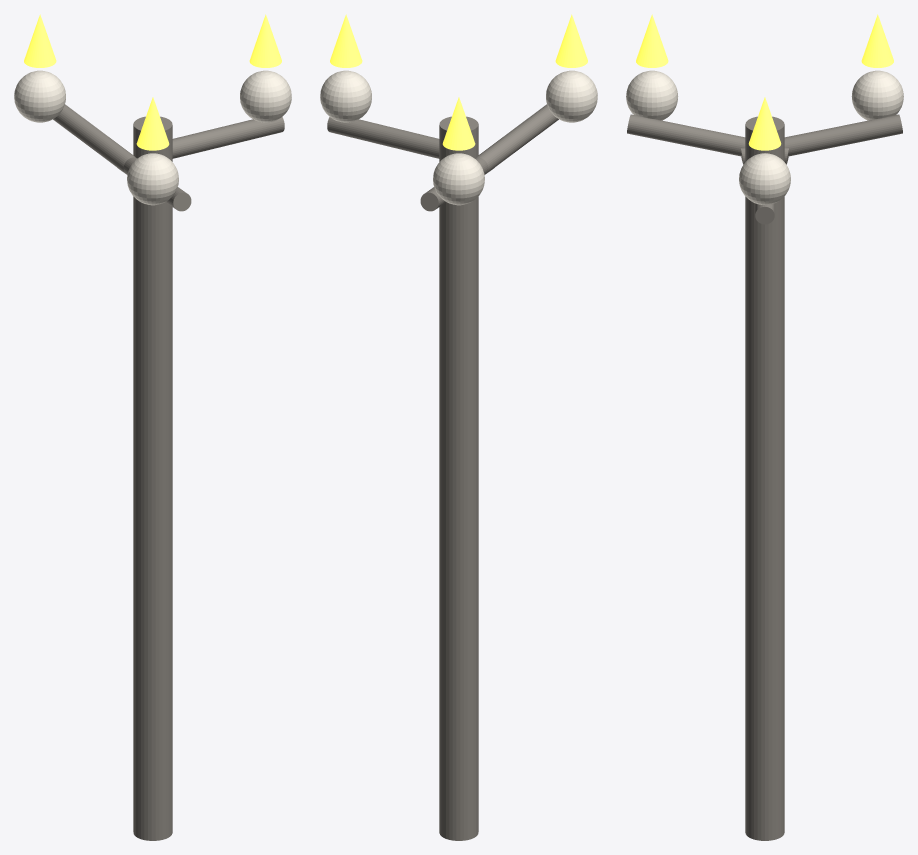
The model's file is candelabra.glb.
3 renders of one model, left to right at view 1: azimuth 30°, elevation 25°; view 2: azimuth 150°, elevation 25°; view 3: azimuth 270°, elevation 25°, orthographic.
Parts seen in each view (by area): view 1: Cylinder, Sphere, Sphere.001, Sphere.002, Cylinder.001, Cylinder.002, Cone.002, Cone, Cone.001; view 2: Cylinder, Sphere, Sphere.002, Sphere.001, Cylinder.001, Cylinder.003, Cone.001, Cone, Cone.002; view 3: Cylinder, Cylinder.002, Cylinder.003, Sphere, Sphere.001, Sphere.002, Cone, Cone.001, Cone.002.
Part boxes in pixels (x1=…): Cylinder: x1=133, y1=116, x2=172, y2=840; Sphere: x1=240, y1=70, x2=291, y2=122; Sphere.001: x1=14, y1=70, x2=65, y2=122; Sphere.002: x1=127, y1=153, x2=178, y2=205; Cylinder.001: x1=172, y1=117, x2=284, y2=158; Cylinder.002: x1=53, y1=104, x2=135, y2=172; Cone.002: x1=136, y1=97, x2=169, y2=150; Cone: x1=249, y1=14, x2=281, y2=67; Cone.001: x1=24, y1=14, x2=56, y2=67; Cylinder: x1=439, y1=116, x2=478, y2=840; Sphere: x1=320, y1=70, x2=371, y2=122; Sphere.002: x1=546, y1=70, x2=597, y2=122; Sphere.001: x1=433, y1=153, x2=484, y2=205; Cylinder.001: x1=327, y1=117, x2=439, y2=158; Cylinder.003: x1=476, y1=104, x2=558, y2=172; Cone.001: x1=442, y1=97, x2=475, y2=150; Cone: x1=330, y1=14, x2=362, y2=67; Cone.002: x1=555, y1=14, x2=587, y2=67; Cylinder: x1=745, y1=116, x2=784, y2=840; Cylinder.002: x1=740, y1=114, x2=902, y2=164; Cylinder.003: x1=627, y1=114, x2=789, y2=164; Sphere: x1=739, y1=153, x2=790, y2=204; Sphere.001: x1=851, y1=70, x2=903, y2=120; Sphere.002: x1=626, y1=70, x2=678, y2=120; Cone: x1=748, y1=97, x2=781, y2=150; Cone.001: x1=861, y1=14, x2=893, y2=67; Cone.002: x1=636, y1=14, x2=668, y2=67.
Bounding box in the file's own units: 0.38 × 1.34 × 0.4264.
